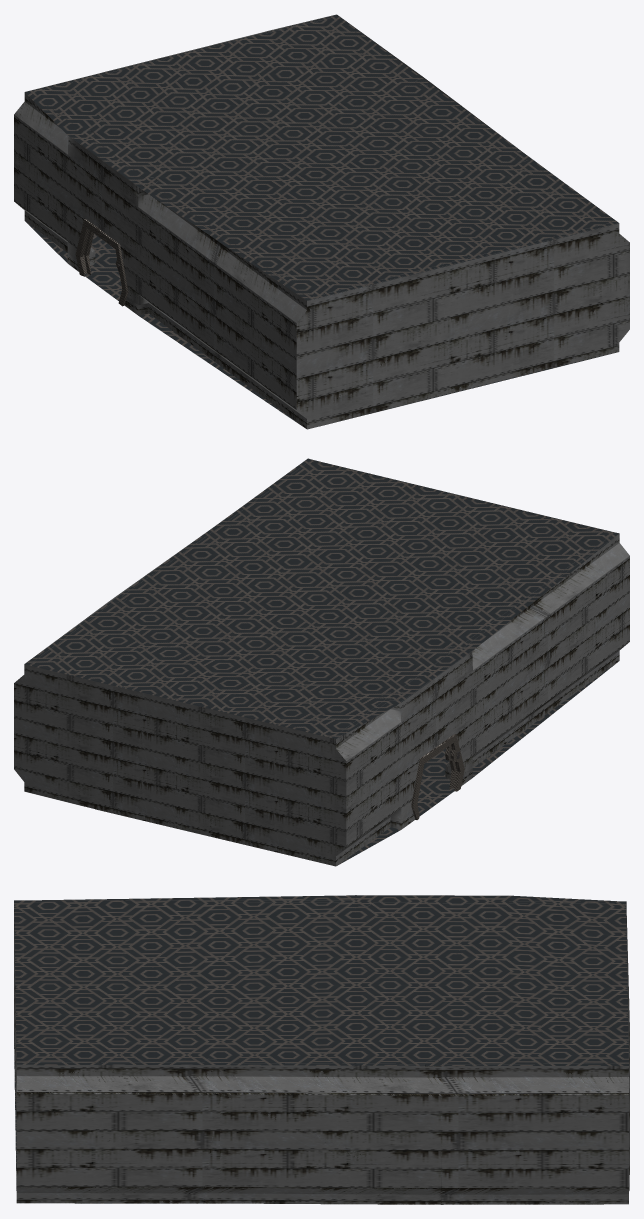
File: almacen_1.obj
The picture shows the model from 3 angles, top to bottom: view 1: azimuth 30°, elevation 25°; view 2: azimuth 150°, elevation 25°; view 3: azimuth 270°, elevation 25°; orthographic projection. The views are drawn at different scales.
Visible parts, largest first — view 1: almacen_3:group3, almacen_3:polySurface1152, almacen_3:polySurface839, almacen_3:pPlane1, almacen_3:polySurface149, almacen_3:polySurface1156, almacen_3:polySurface1160; view 2: almacen_3:group3, almacen_3:polySurface1156, almacen_3:polySurface839, almacen_3:pPlane1, almacen_3:polySurface149, almacen_3:polySurface1160; view 3: almacen_3:group3, almacen_3:polySurface1160, almacen_3:polySurface839.
Boxes of the visible parts, x1,y1,x2,y2 form: almacen_3:group3: (25,15,618,300); almacen_3:polySurface1152: (296,222,629,429); almacen_3:polySurface839: (14,92,308,428); almacen_3:pPlane1: (25,221,615,428); almacen_3:polySurface149: (75,219,128,306); almacen_3:polySurface1156: (14,14,336,114); almacen_3:polySurface1160: (335,15,618,222); almacen_3:group3: (25,459,618,738); almacen_3:polySurface1156: (14,663,346,866); almacen_3:polySurface839: (334,533,629,866); almacen_3:pPlane1: (337,662,617,865); almacen_3:polySurface149: (411,734,464,819); almacen_3:polySurface1160: (25,458,308,663); almacen_3:group3: (14,895,628,1065); almacen_3:polySurface1160: (16,1058,629,1204); almacen_3:polySurface839: (14,895,626,906).
Size of the model in its own units: 73.52 by 26.72 by 107.
